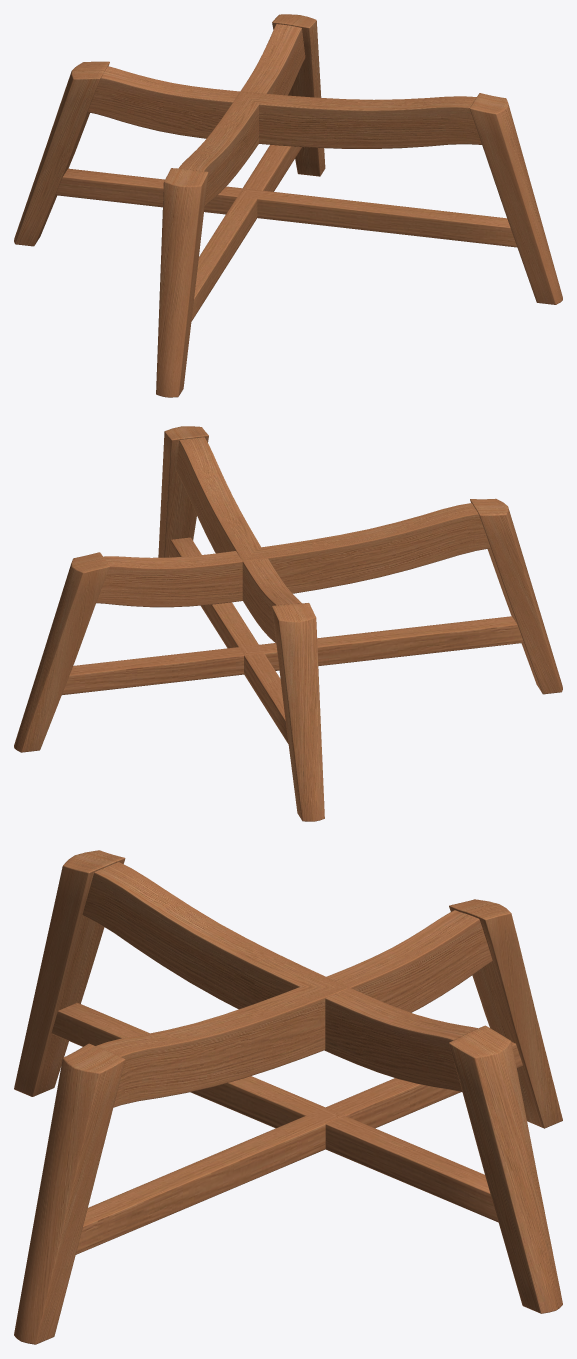
File: Nora_Chair_L30_Leg.glb
The picture shows the model from 3 angles, top to bottom: view 1: azimuth 30°, elevation 25°; view 2: azimuth 150°, elevation 25°; view 3: azimuth 270°, elevation 25°; orthographic projection. The views are drawn at different scales.
Visible parts, largest first — view 1: Legs; view 2: Legs; view 3: Legs.
Part boxes in pixels (x1,y1,x2,y2): Legs: (14, 14, 562, 397); Legs: (14, 426, 562, 821); Legs: (14, 850, 562, 1344).
Size of the model in its own units: 60.59 by 27.23 by 53.15.
Materials: 1 (1 with a texture image).
